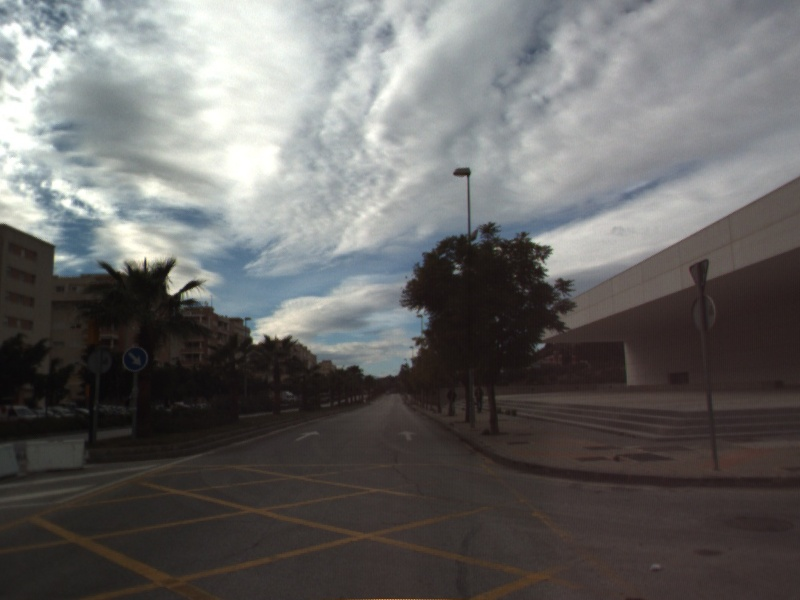STRAIGHT: (293, 428, 322, 443), (395, 428, 419, 443)
